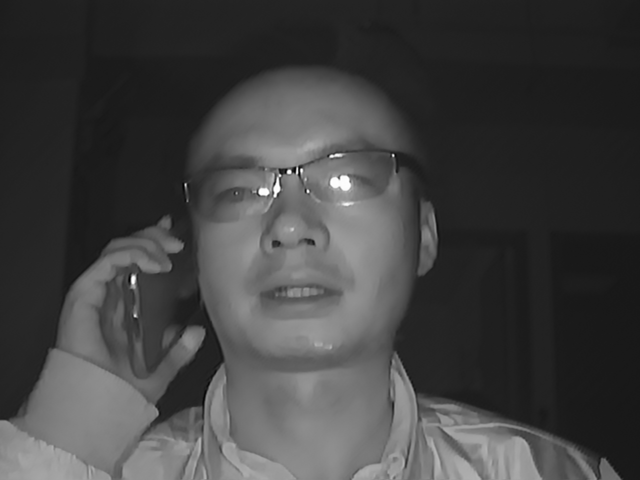hand: (59, 211, 191, 386)
